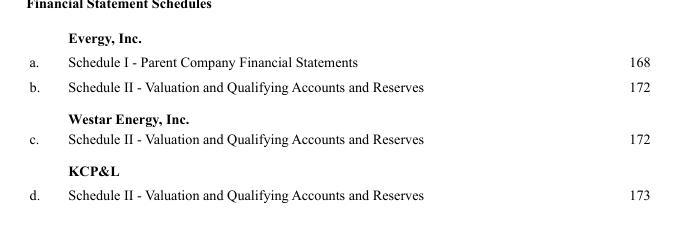table: (28, 29, 649, 202)
table column: (53, 29, 525, 202), (525, 29, 649, 202), (28, 29, 53, 202)
table column header: (28, 29, 649, 73)
table row: (28, 29, 649, 73), (28, 73, 649, 102), (28, 153, 649, 182), (28, 102, 649, 128), (28, 128, 649, 153), (28, 182, 649, 202)
table spanning cell: (28, 73, 53, 128), (28, 128, 53, 182)
